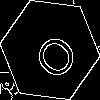O: (25, 25, 81, 84)
